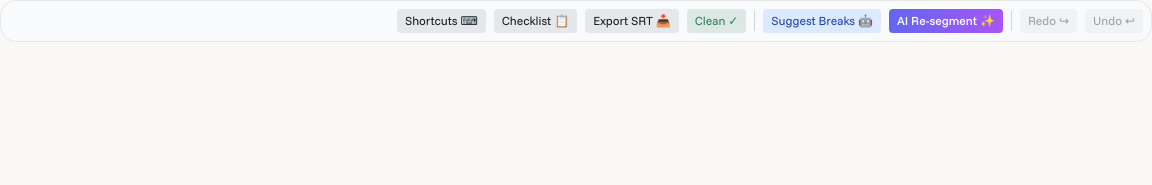
Scenario: the publish checklist › marks a transcript that has no missing translations
The image size is (1152, 185).
Click the button "📋 Checklist".
click(535, 21)  # box [494,9,577,33]
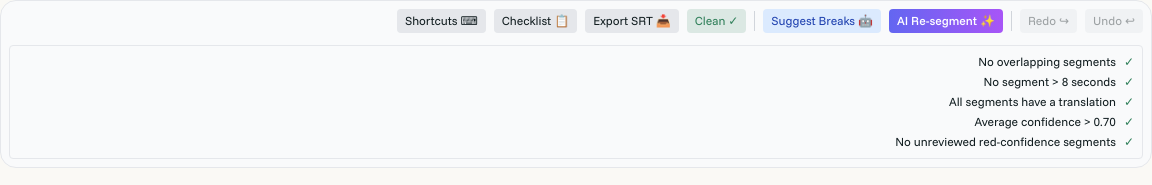
Check: the element showing "✓ All segments have a translation" is shown, box [949,94,1134,109]
